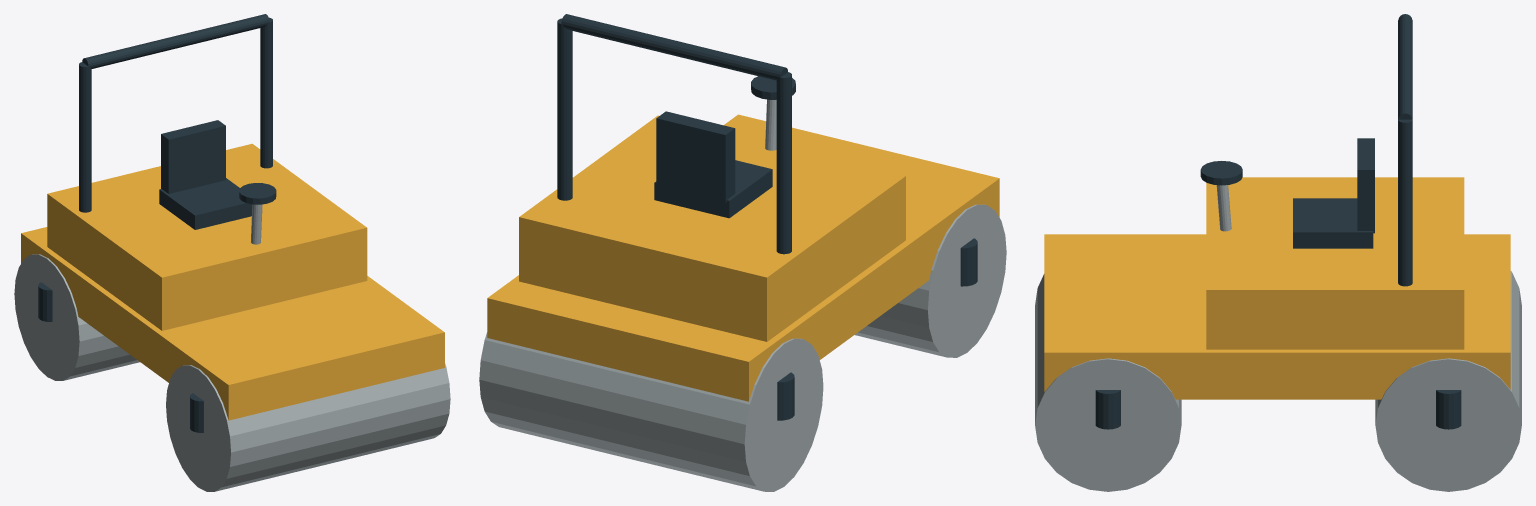
Rendered from scendance-plan-heavy-roller.glb.
3 renders of one model, left to right at view 1: azimuth 30°, elevation 25°; view 2: azimuth 150°, elevation 25°; view 3: azimuth 270°, elevation 25°, orthographic. The views are drawn at different scales.
Bounding box in the file's own units: 1.47 × 1.97 × 2.36.
